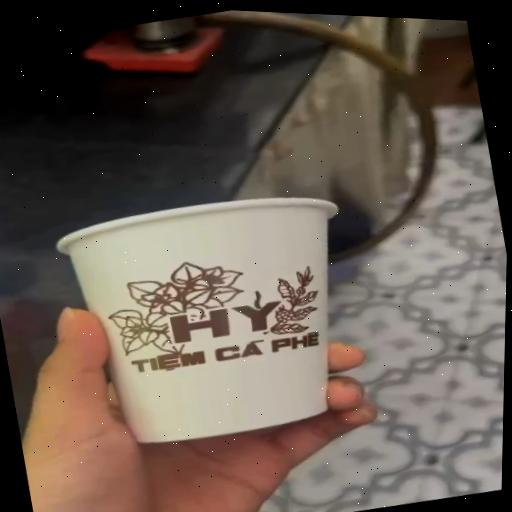Ly_giay: (57, 198, 337, 442), (109, 262, 243, 354)
